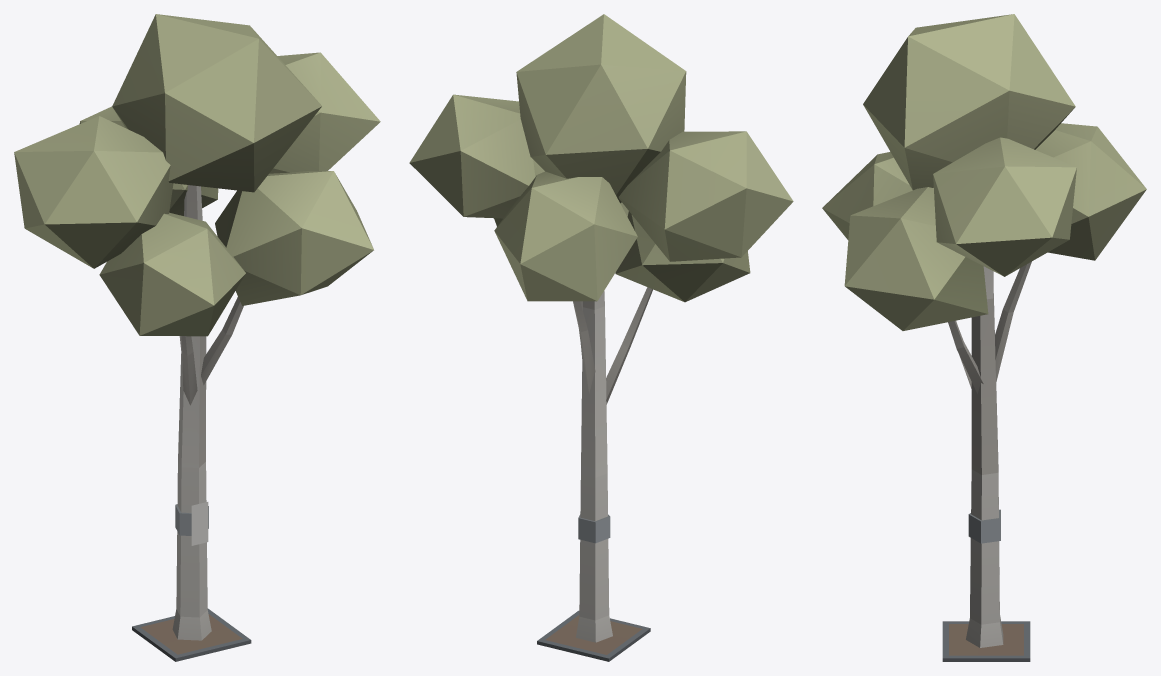
The model's file is pit.lod1.glb.
The picture shows the model from 3 angles, left to right: view 1: azimuth 30°, elevation 25°; view 2: azimuth 150°, elevation 25°; view 3: azimuth 270°, elevation 25°; orthographic projection. The views are drawn at different scales.
Bounding box in the file's own units: 4.66 × 7.83 × 3.71.
